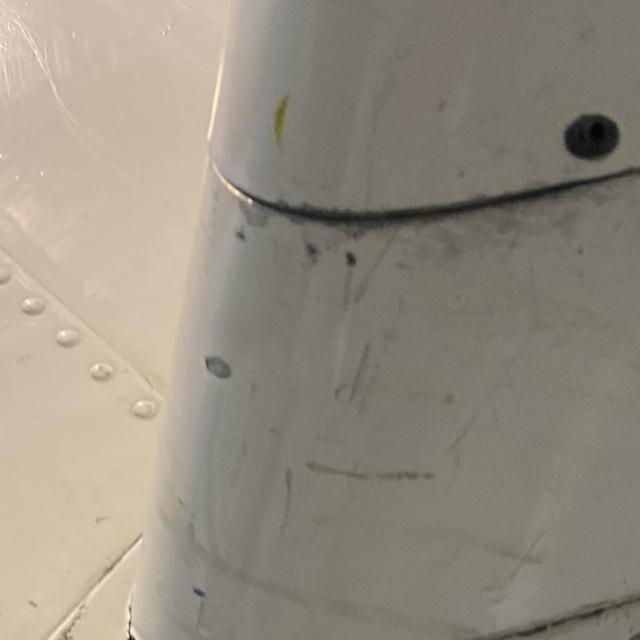Crack: (124, 597, 142, 640)
Missing-head: (564, 110, 620, 157), (629, 630, 640, 640)
Paint-off: (201, 352, 232, 377), (187, 584, 206, 600)
